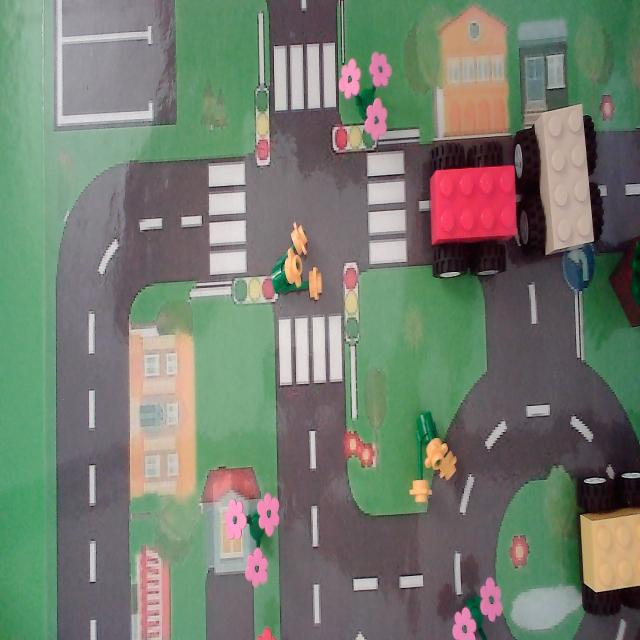Car: (514, 81, 616, 275), (410, 122, 522, 298), (553, 445, 640, 627)
Flower: (402, 391, 481, 547), (216, 476, 308, 596), (251, 219, 342, 327), (330, 29, 397, 167), (442, 563, 519, 640)
